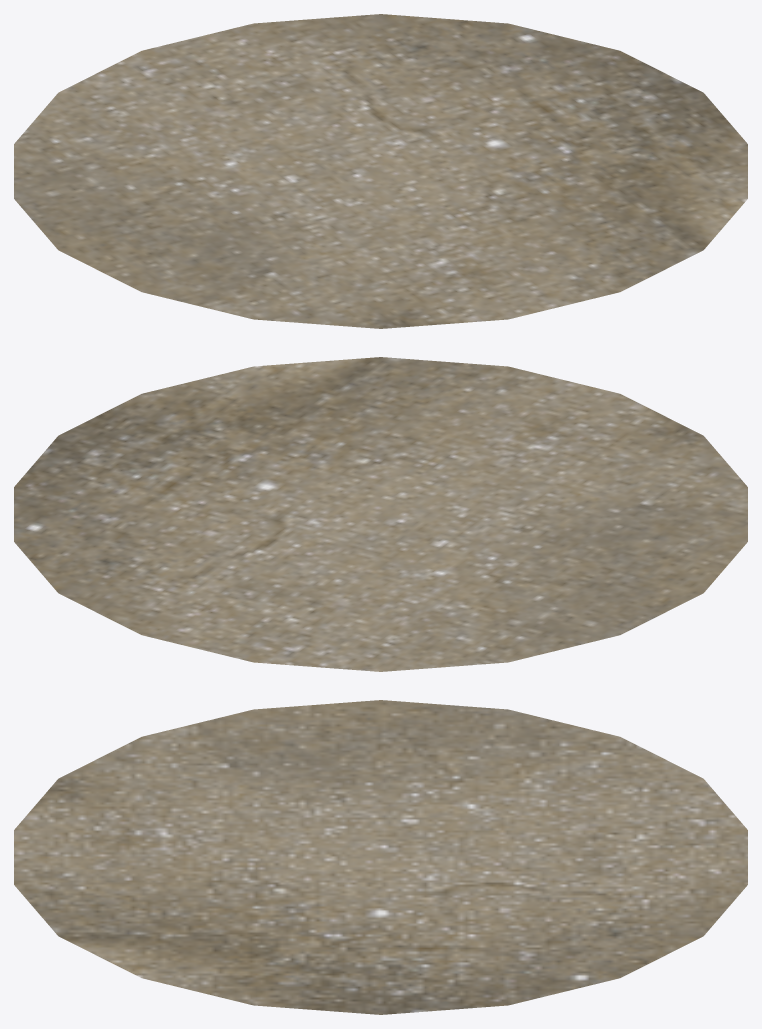
Rendered from TrCapA3.fbx.
The picture shows the model from 3 angles, top to bottom: view 1: azimuth 30°, elevation 25°; view 2: azimuth 150°, elevation 25°; view 3: azimuth 270°, elevation 25°; orthographic projection.
Visible parts, largest first — view 1: TrCapA3; view 2: TrCapA3; view 3: TrCapA3.
Part boxes in pixels (x1,y1,x2,y2): TrCapA3: (14, 14, 747, 328); TrCapA3: (14, 357, 747, 671); TrCapA3: (14, 700, 747, 1014).
Bounding box in the file's own units: 56.81 × 3.13e-05 × 55.95.
